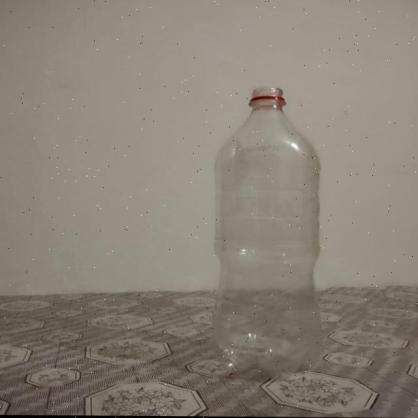bottle: (211, 87, 325, 378)
